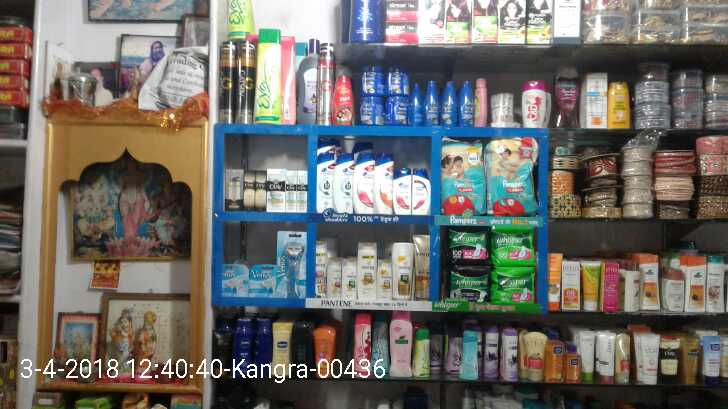venus: (277, 231, 309, 299), (251, 267, 277, 299), (224, 267, 251, 295)
